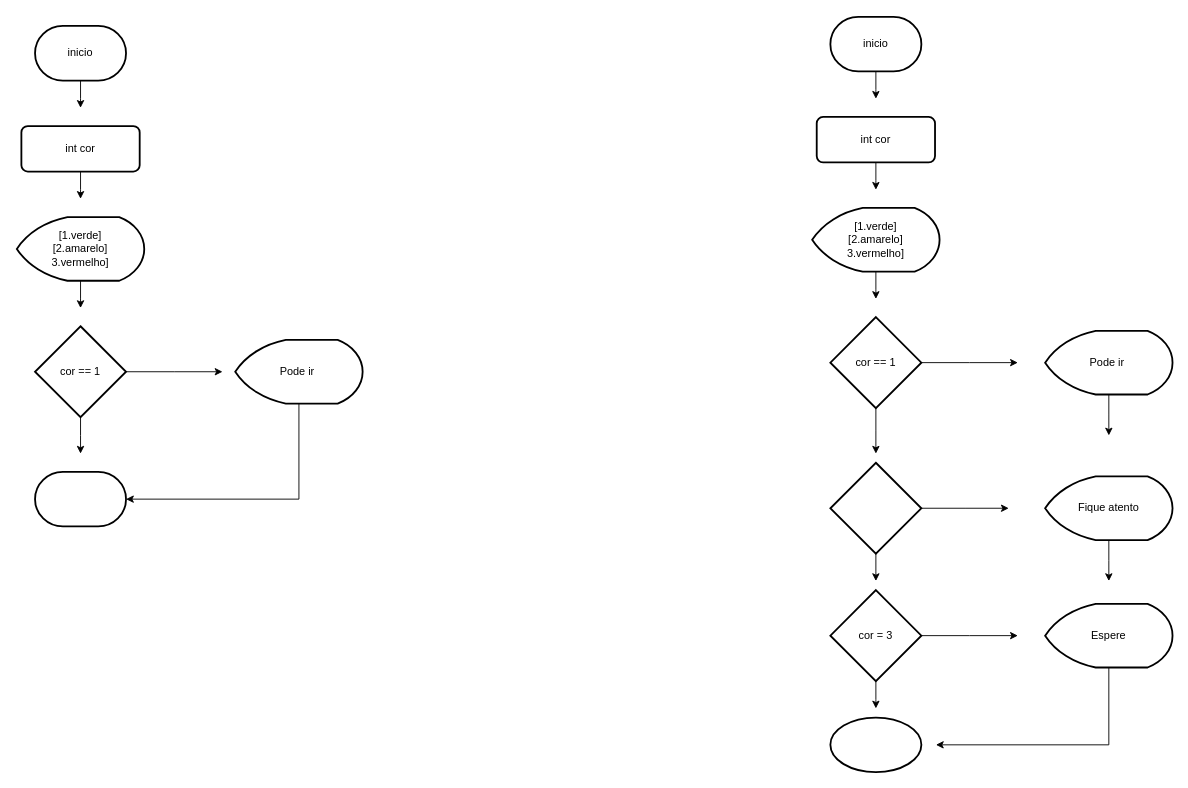
The diagram is 1188 pixels wide and 788 high, and some of its shapes have lost their labels. Each missing label, with the centre of its shape:
cor == 2: point 875,507
Fim: point 875,744
Fim.: point 80,498
